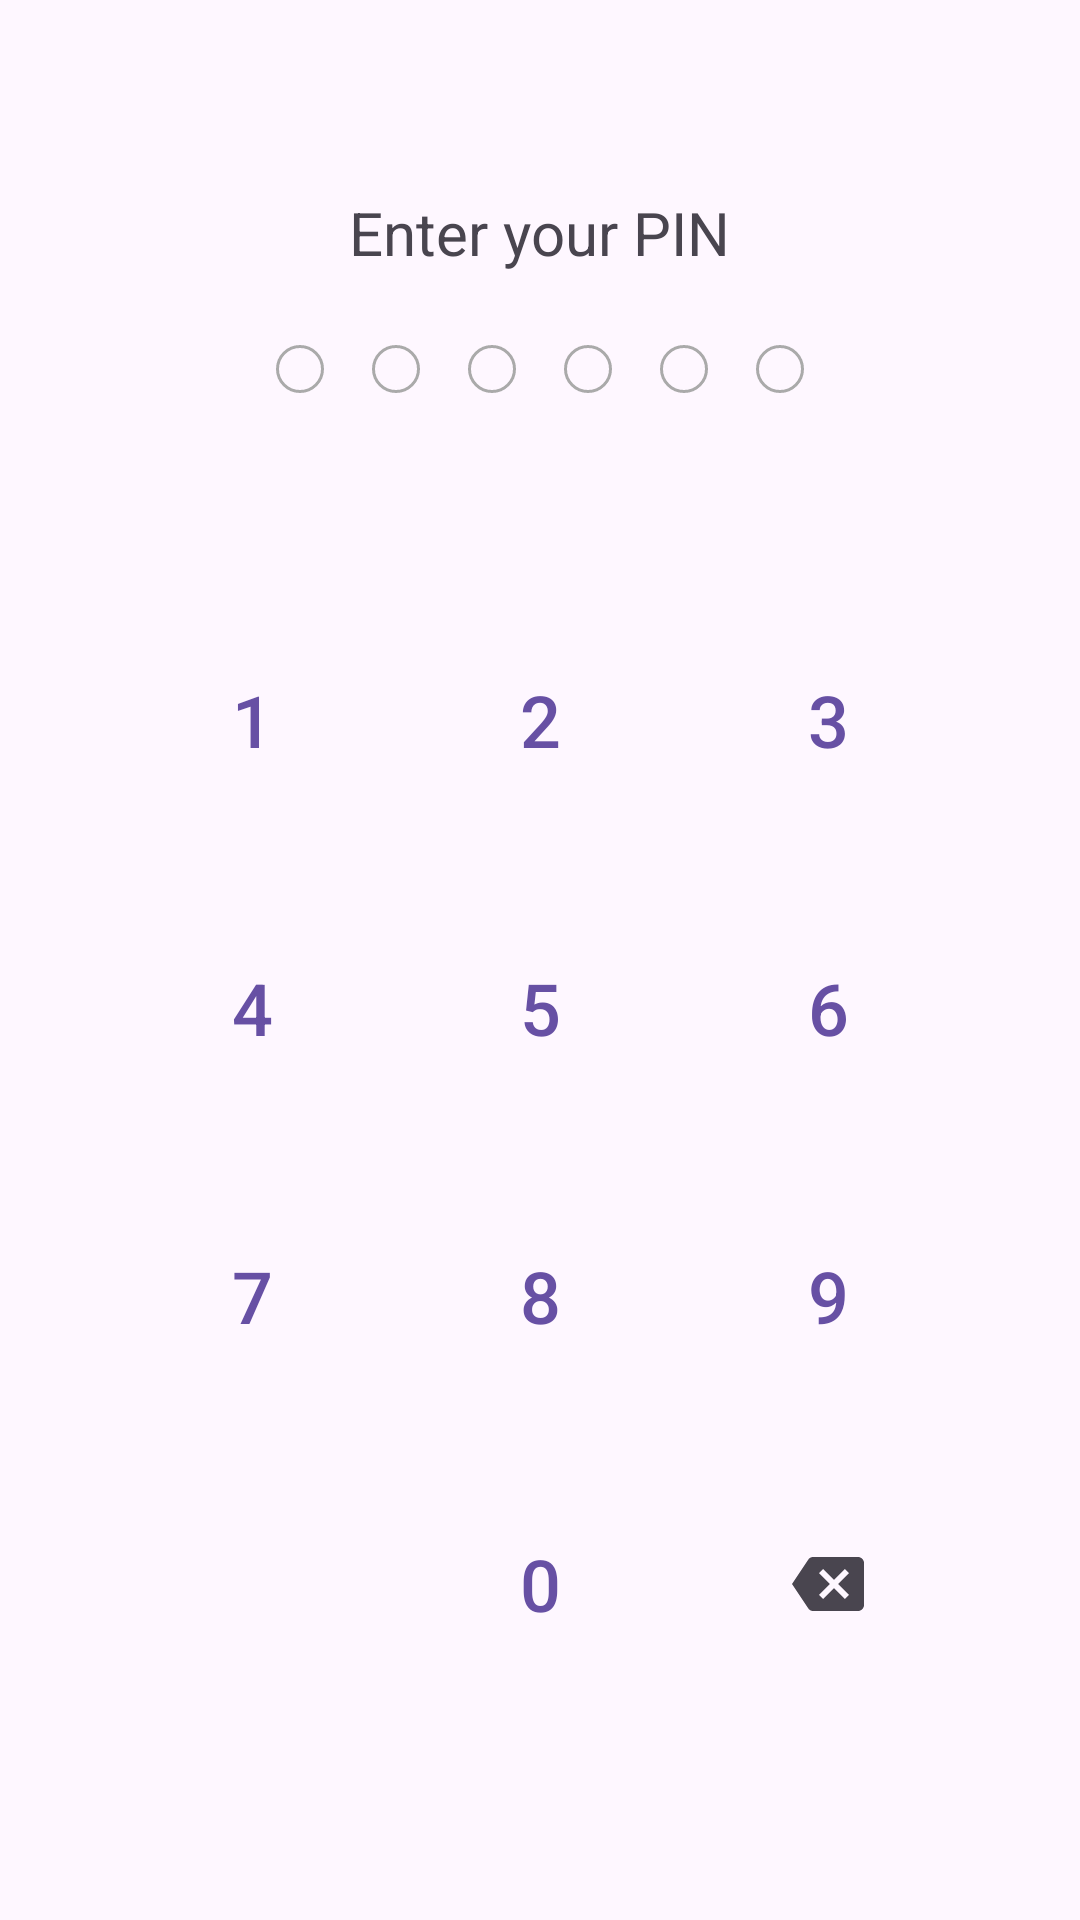

Screen size 1080px x 1920px. Icon name, then its box in pixels as (x1, y1, x2, y2):
Backspace: (792, 1557, 864, 1611)
